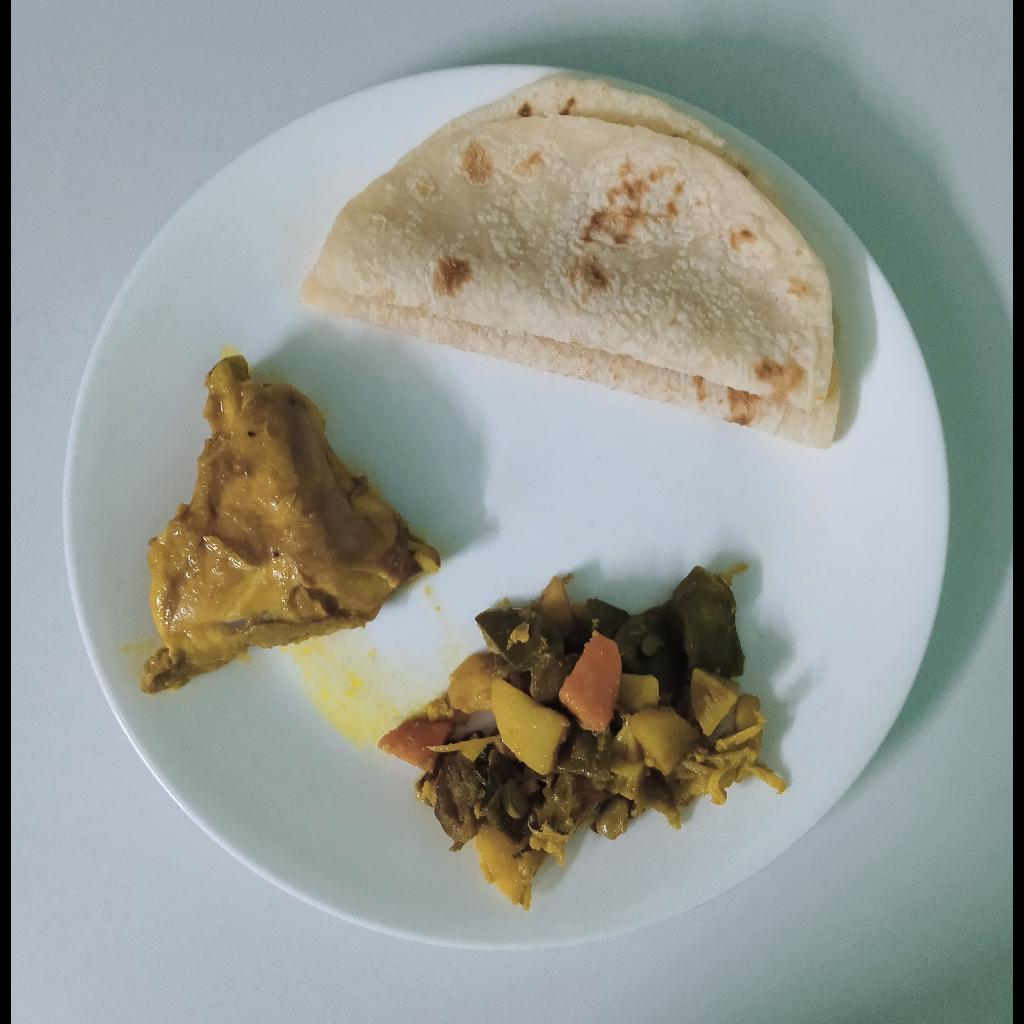chicken: (139, 355, 442, 692)
ruti: (304, 78, 838, 459)
vegetable: (379, 561, 765, 906)
